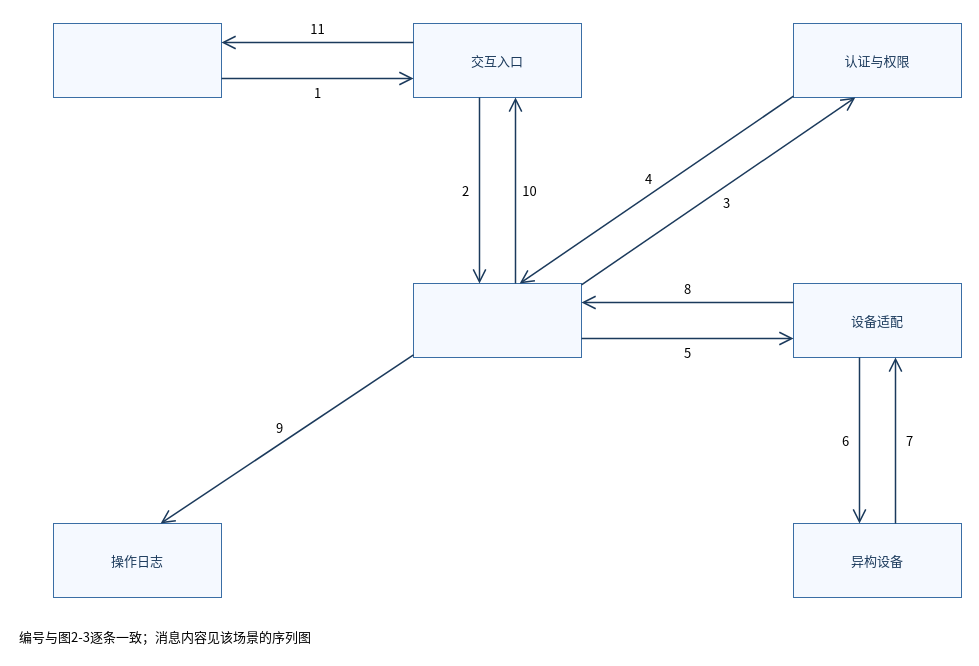
The diagram is 979 pixels wide and 666 high, and some of its shapes have lost their labels. Each missing label, with the box of its shape:
实验人员: (52, 22, 222, 98)
操作协调: (412, 282, 582, 358)
